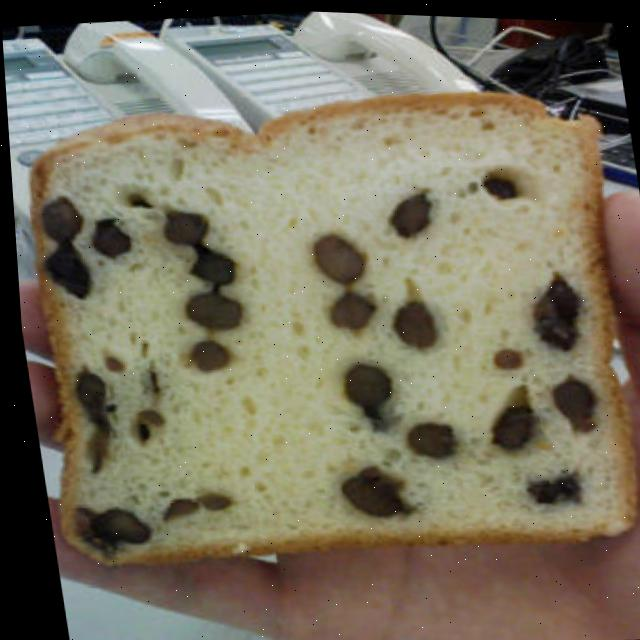面包点心: (2, 38, 640, 579)
